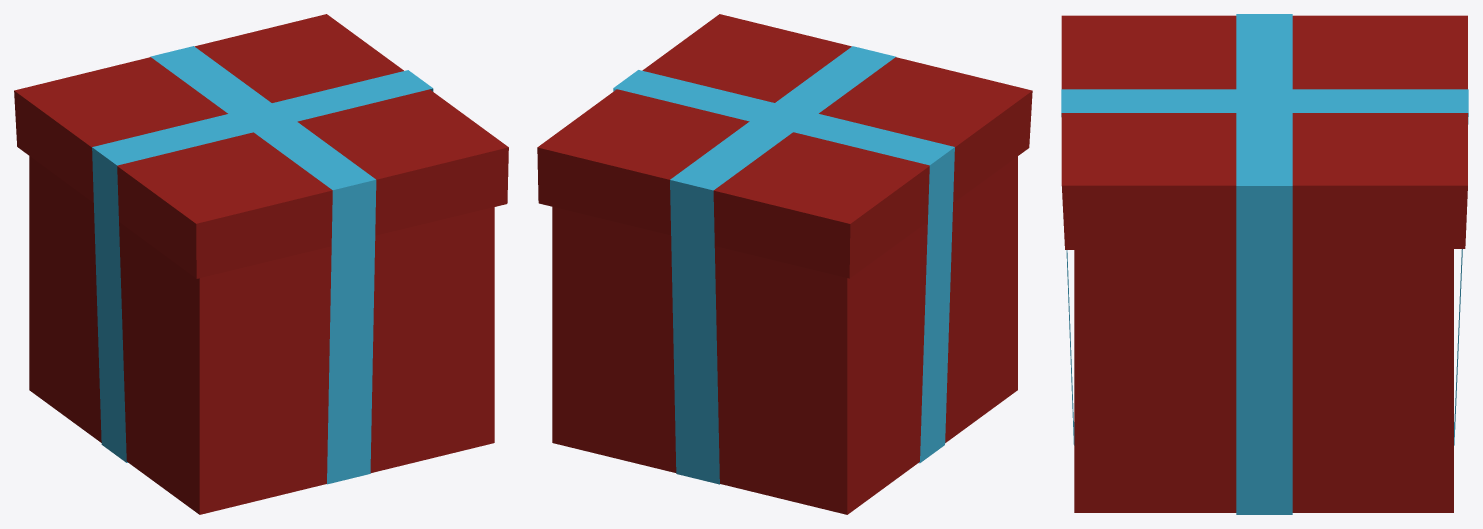
Rendered from Present (red).fbx.
3 views of the same model, side by side, from view 1: azimuth 30°, elevation 25°; view 2: azimuth 150°, elevation 25°; view 3: azimuth 270°, elevation 25° (orthographic). The views are drawn at different scales.
Parts seen in each view (by area): view 1: Cube, Ribbon; view 2: Cube, Ribbon; view 3: Cube, Ribbon.
Part boxes in pixels (left/top/right/bottom): Cube: left=14, top=14, right=508, bottom=514; Ribbon: left=92, top=46, right=433, bottom=484; Cube: left=537, top=14, right=1032, bottom=514; Ribbon: left=613, top=46, right=954, bottom=484; Cube: left=1061, top=15, right=1467, bottom=512; Ribbon: left=1061, top=14, right=1468, bottom=514.
Size of the model in its own units: 214 by 195 by 214.
